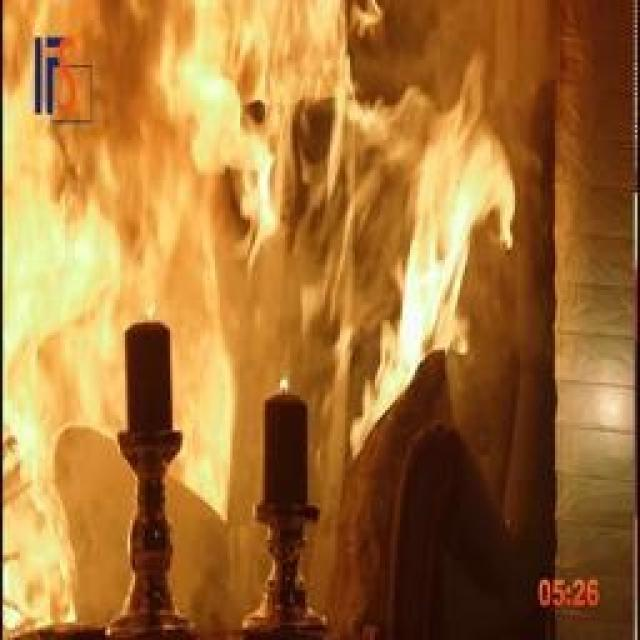fire: (9, 0, 516, 620)
